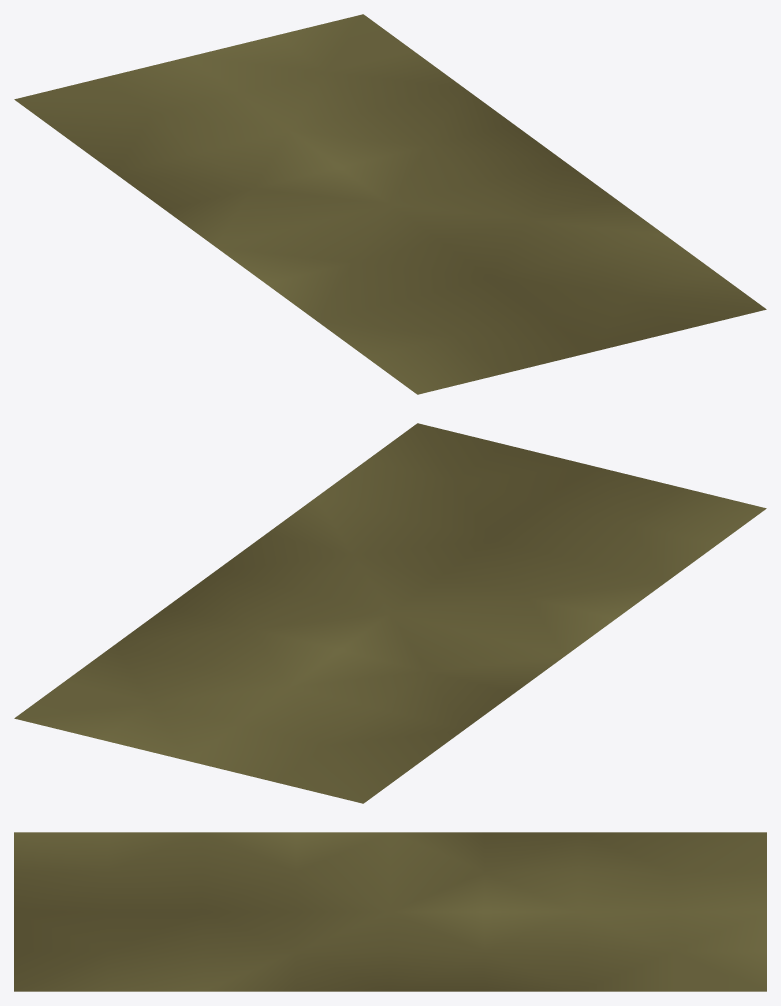
The model's file is terrain_lod2_7_-2.obj.
The picture shows the model from 3 angles, top to bottom: view 1: azimuth 30°, elevation 25°; view 2: azimuth 150°, elevation 25°; view 3: azimuth 270°, elevation 25°; orthographic projection. The views are drawn at different scales.
Parts seen in each view (by area): view 1: terrain_lod2_7_-2; view 2: terrain_lod2_7_-2; view 3: terrain_lod2_7_-2.
Part boxes in pixels (x1,y1,x2,y2): terrain_lod2_7_-2: (14,14,766,394); terrain_lod2_7_-2: (14,423,766,803); terrain_lod2_7_-2: (14,832,766,991).
Size of the model in its own units: 64 by 0 by 128.
